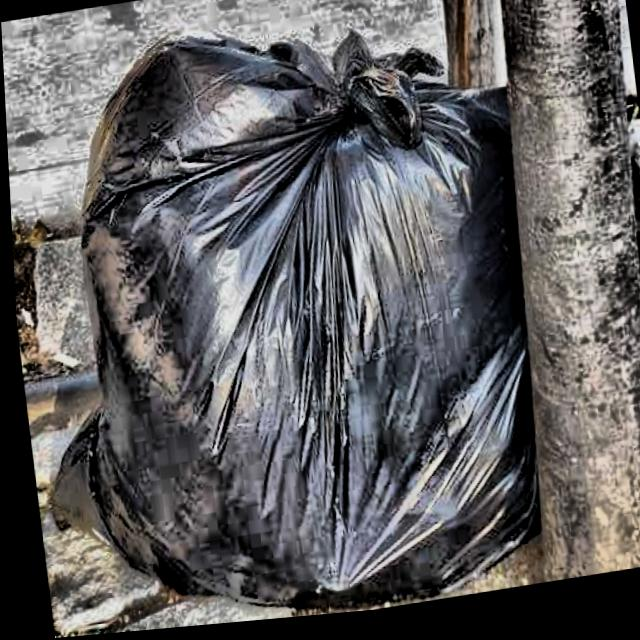Plastic: (1, 0, 573, 640)
